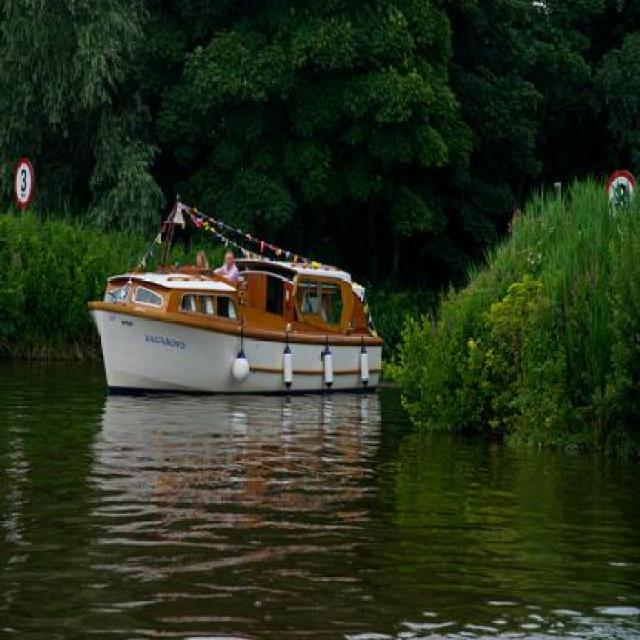ship: (84, 256, 381, 396)
